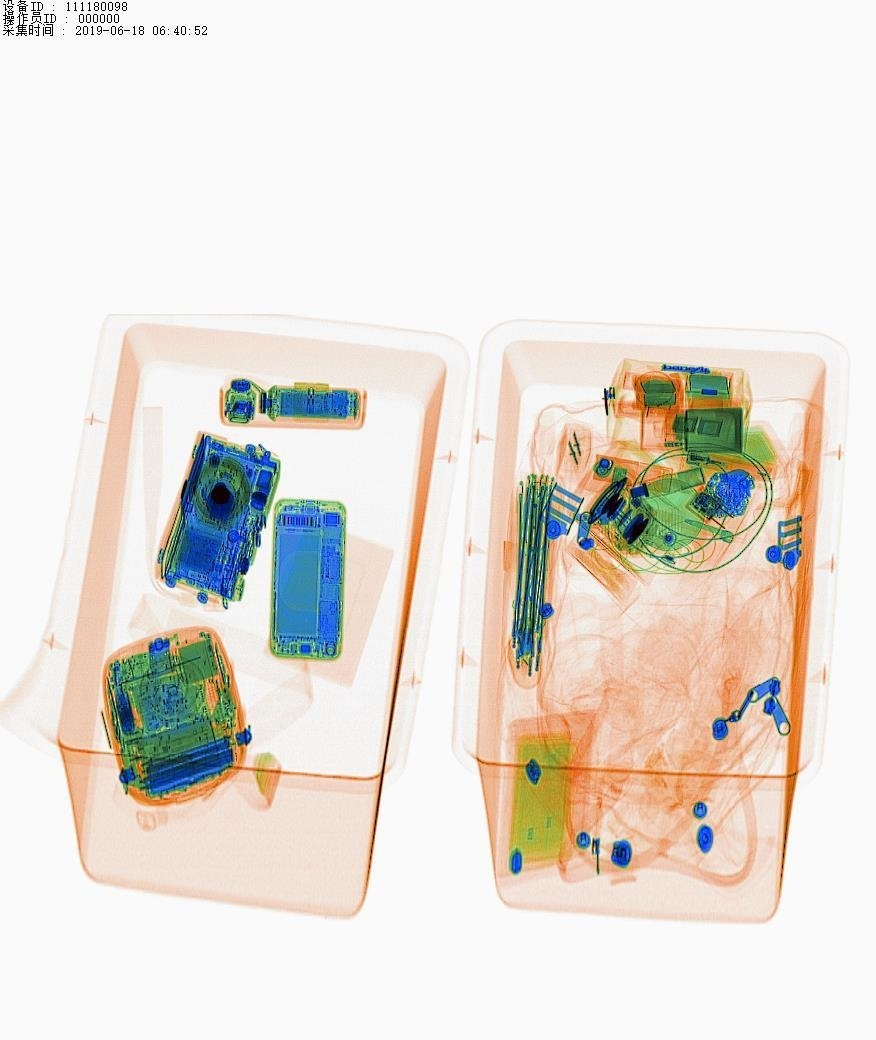NonmetallicFire: (679, 441, 789, 491)
